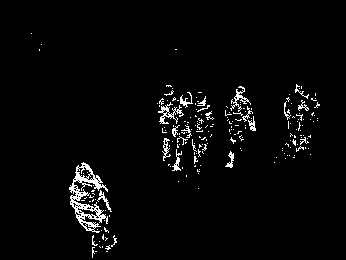person: (68, 160, 121, 257), (222, 85, 258, 172), (154, 82, 182, 164), (187, 90, 214, 173), (172, 89, 194, 175), (283, 79, 306, 157), (297, 89, 321, 157)
